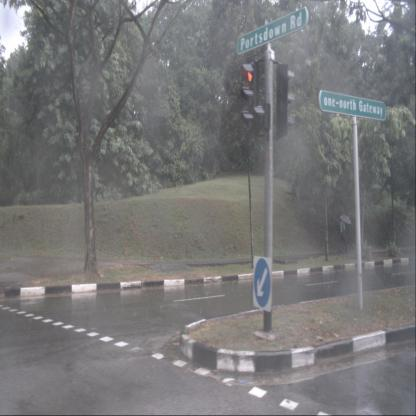human-pedestrian-adult: (338, 214, 352, 254)
